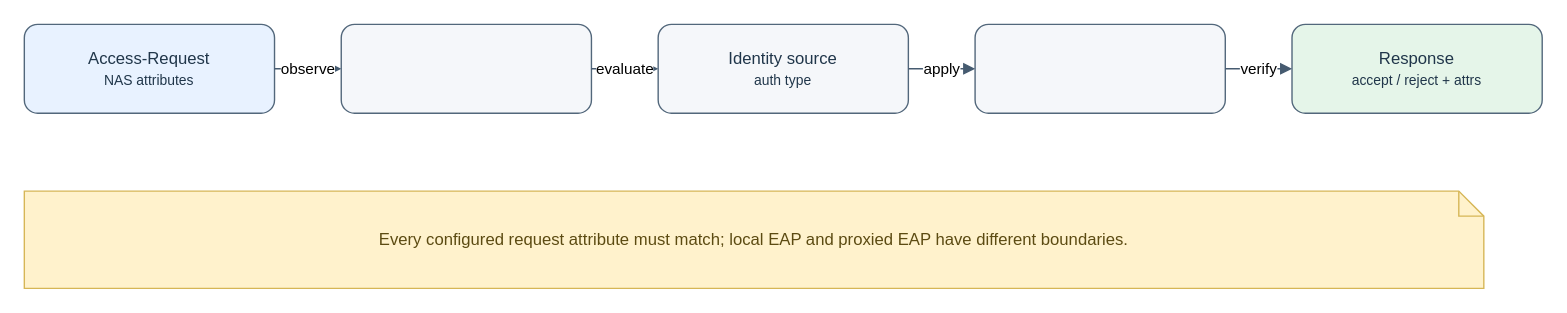
The diagram is 1567 pixels wide and 313 high, and some of its shapes have lost their labels. The shapes that lost their labels are listed below. From the top down, each one's centre as x and y in pixels, then its label:
point (465, 68): Policy list top-down match
point (1099, 68): Local / proxy EAP boundary
